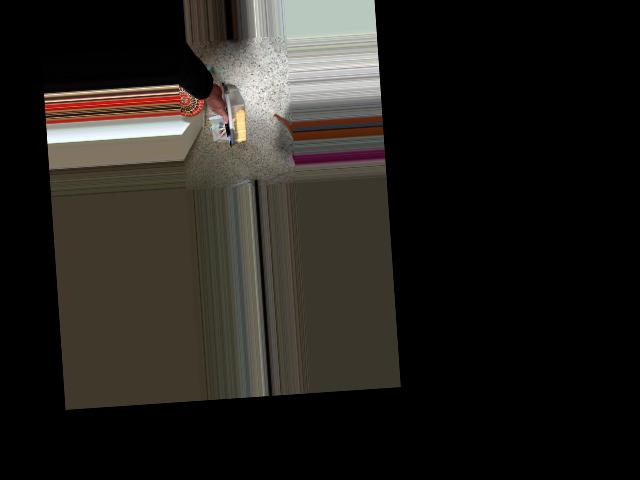cheese: (192, 69, 263, 143)
